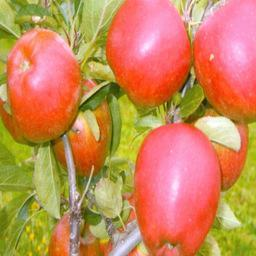apple: (132, 122, 220, 256), (105, 1, 193, 108), (4, 30, 83, 146), (193, 1, 256, 119), (49, 76, 113, 177), (189, 109, 248, 191), (47, 208, 114, 255)
